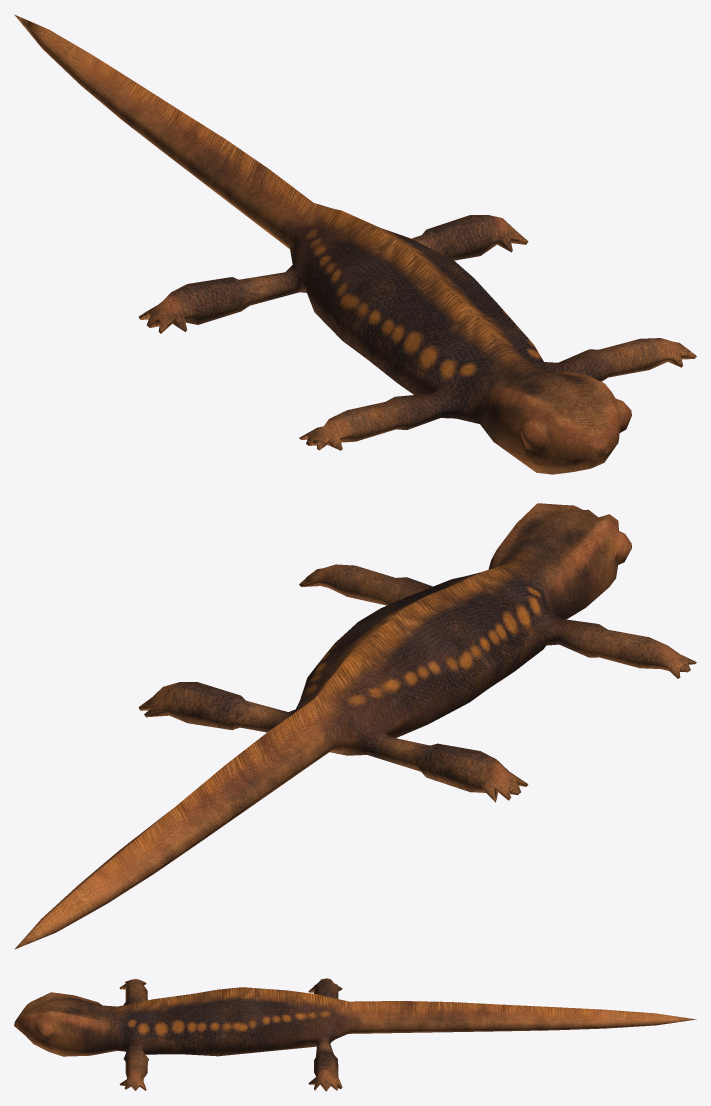
Rendered from newt.glb.
The picture shows the model from 3 angles, top to bottom: view 1: azimuth 30°, elevation 25°; view 2: azimuth 150°, elevation 25°; view 3: azimuth 270°, elevation 25°; orthographic projection. The views are drawn at different scales.
Visible parts, largest first — view 1: lagarto.003_0; view 2: lagarto.003_0; view 3: lagarto.003_0.
Part boxes in pixels (bbox=[...]): lagarto.003_0: bbox=[14, 14, 696, 474]; lagarto.003_0: bbox=[14, 503, 696, 949]; lagarto.003_0: bbox=[14, 978, 696, 1091].
Size of the model in its own units: 3.67 by 1.03 by 9.75.
Materials: 1 (1 with a texture image).
